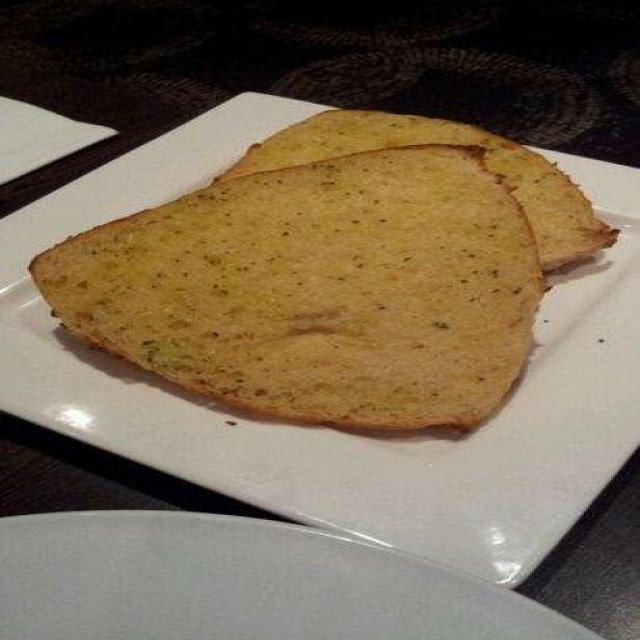food_waste: (45, 105, 604, 443)
